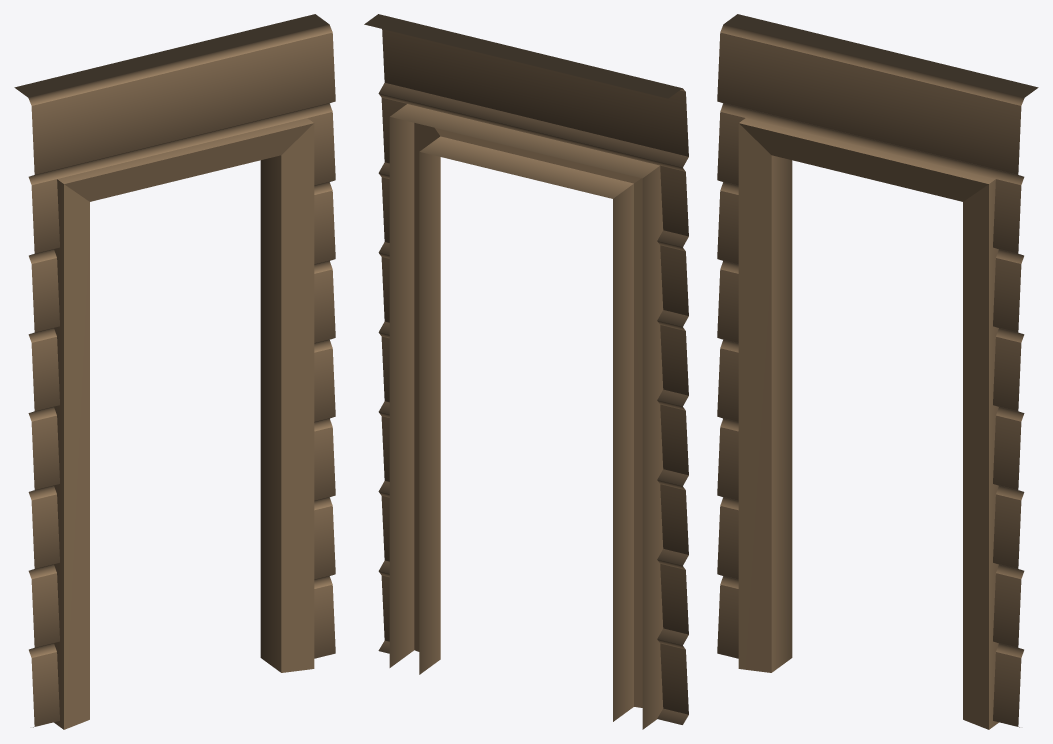
The model's file is plank_wall_doorframe.fbx.
3 views of the same model, side by side, from view 1: azimuth 30°, elevation 25°; view 2: azimuth 150°, elevation 25°; view 3: azimuth 330°, elevation 25° (orthographic).
Visible parts, largest first — view 1: plank_wall_doorframe; view 2: plank_wall_doorframe; view 3: plank_wall_doorframe.
Boxes of the visible parts, left/top/right/bottom form: plank_wall_doorframe: left=14, top=14, right=335, bottom=729; plank_wall_doorframe: left=364, top=14, right=688, bottom=729; plank_wall_doorframe: left=717, top=14, right=1038, bottom=729.
Bounding box in the file's own units: 100 × 200 × 14.
